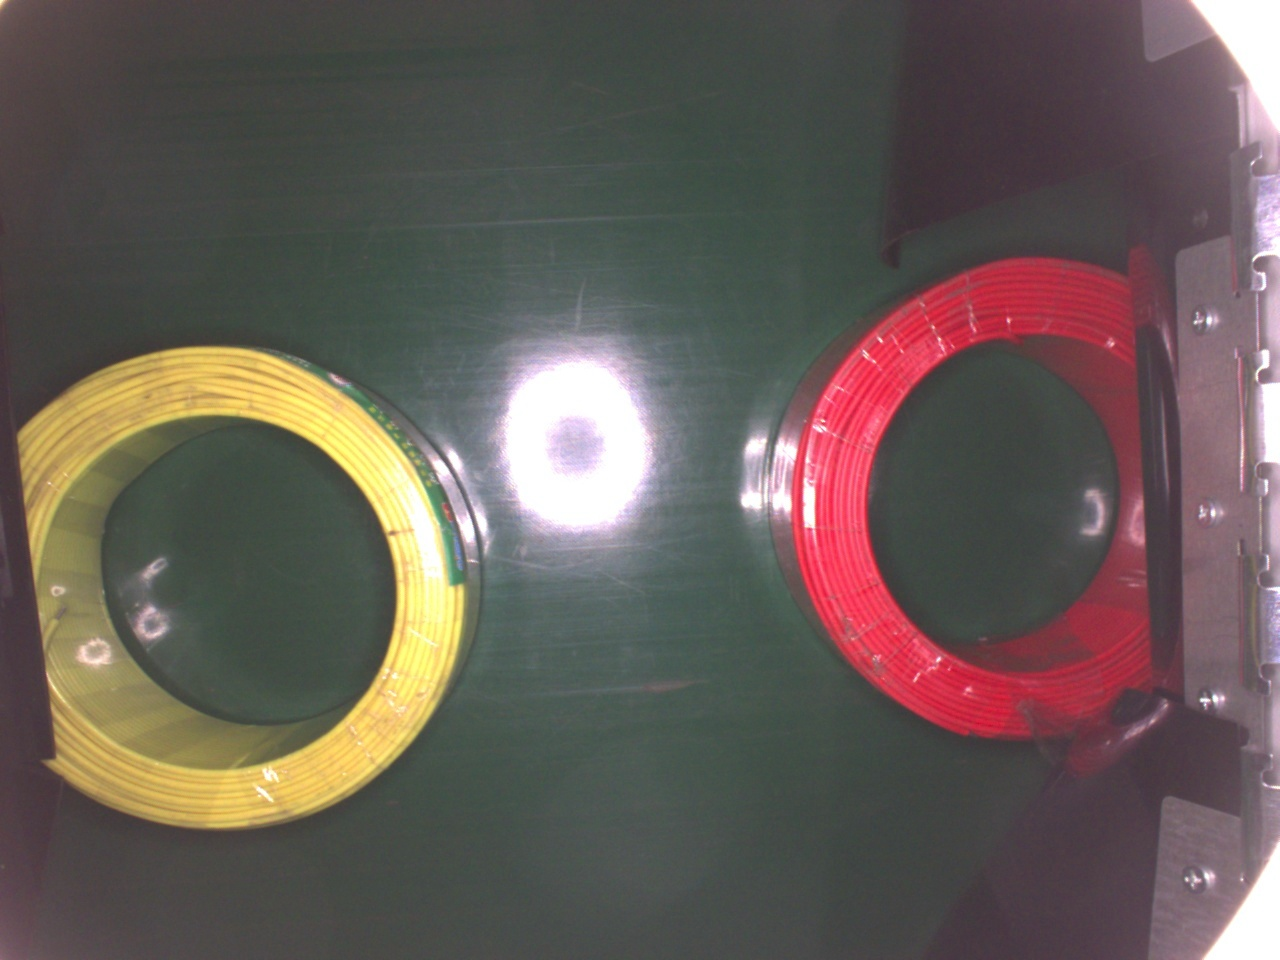red: (767, 252, 1151, 744)
yellow: (18, 344, 485, 833)
